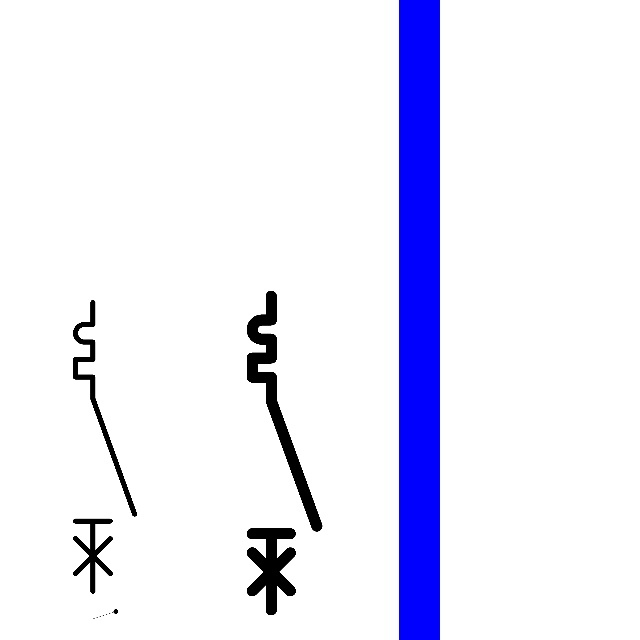interruptor_termomagnetico: (244, 288, 324, 618), (68, 295, 142, 599)
